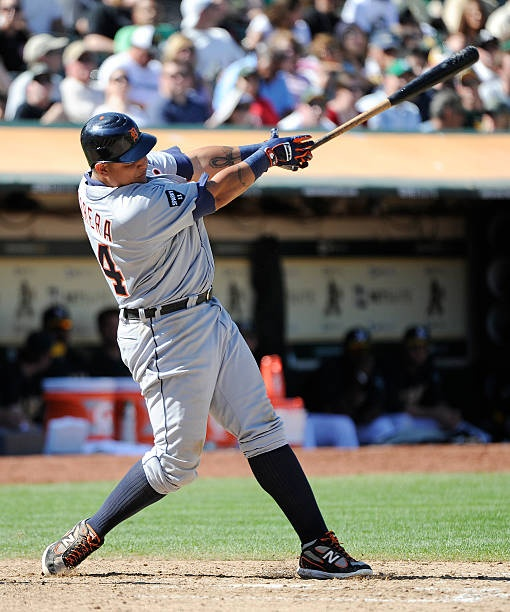bita: (308, 49, 482, 150)
